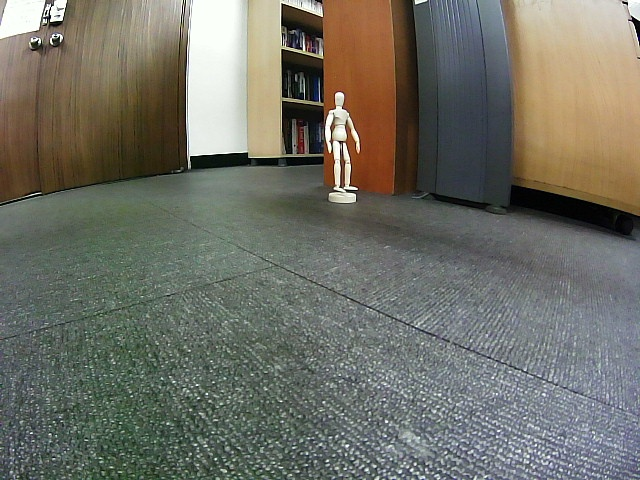person: (325, 91, 361, 193)
